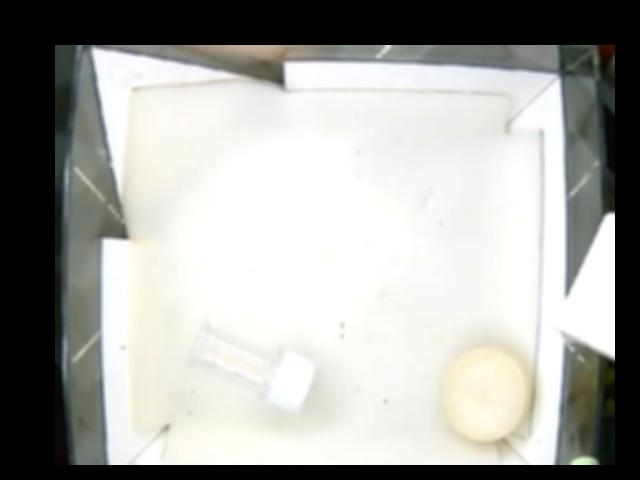Bottle: (189, 319, 313, 408)
Mooli: (438, 348, 532, 444)
